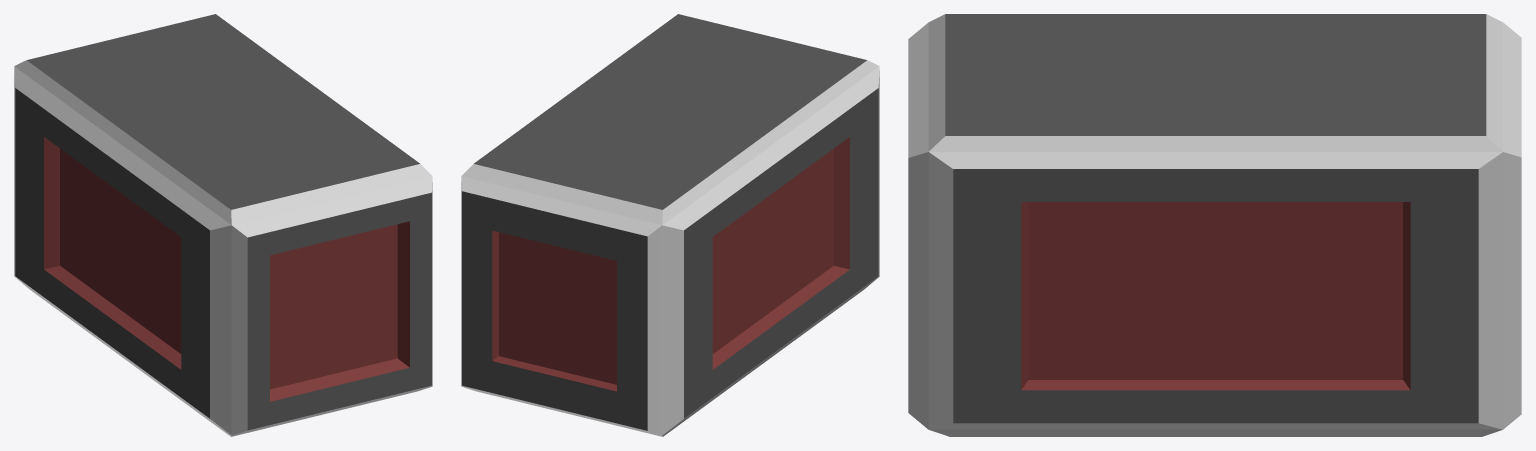
File: BoxLarge.dae
3 renders of one model, left to right at view 1: azimuth 30°, elevation 25°; view 2: azimuth 150°, elevation 25°; view 3: azimuth 270°, elevation 25°, orthographic. The views are drawn at different scales.
Parts seen in each view (by area): view 1: BoxRectangle; view 2: BoxRectangle; view 3: BoxRectangle.
Part boxes in pixels (x1,y1,x2,y2): BoxRectangle: (14, 14, 432, 436); BoxRectangle: (461, 14, 879, 436); BoxRectangle: (908, 14, 1521, 436).
Bounding box in the file's own units: 1.09 × 2 × 1.09.
